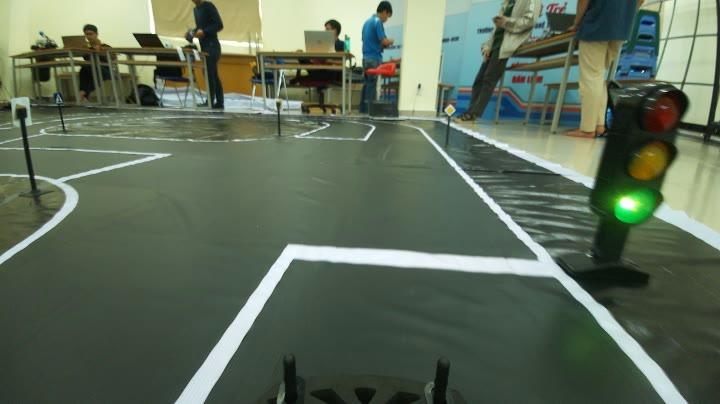trafficlight: (587, 70, 687, 242)
